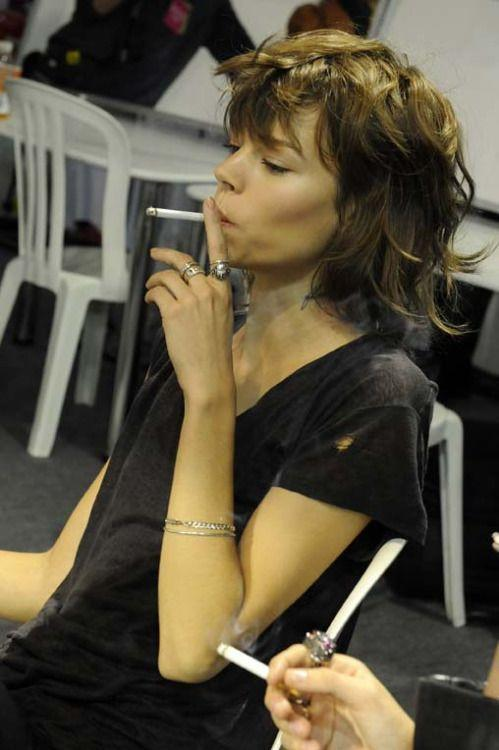cigarette: (217, 642, 303, 697), (145, 206, 204, 222)
